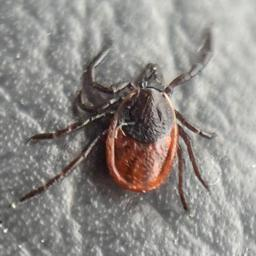Ixodes scapularis: (19, 28, 218, 209)
